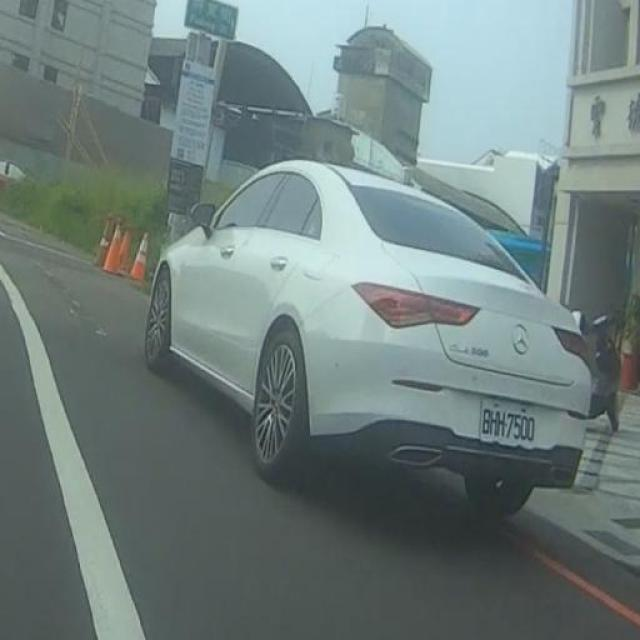Legalparking: (117, 85, 622, 515)
